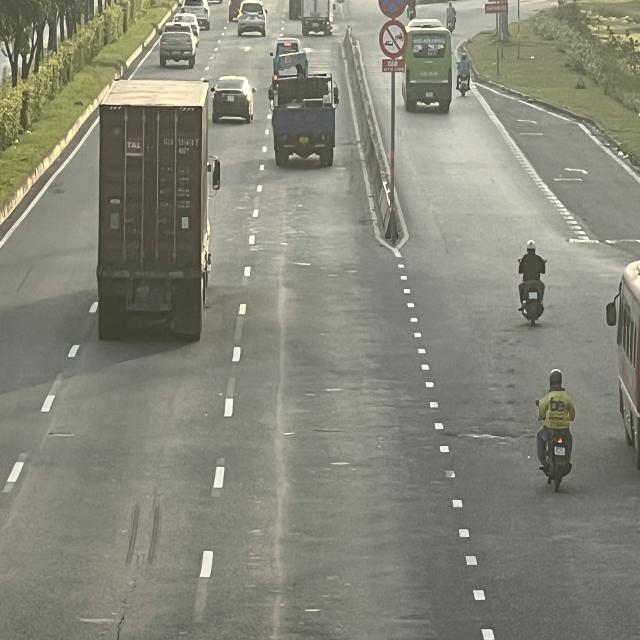car: (159, 19, 200, 68), (213, 76, 256, 122), (236, 0, 267, 36)
coach: (406, 17, 455, 109)
container: (95, 75, 216, 342)
truck: (268, 49, 340, 160), (302, 0, 334, 35)
